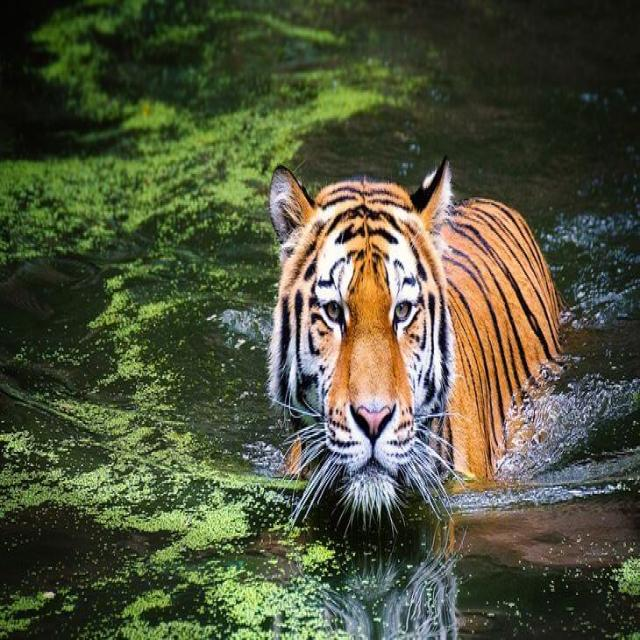Carnivorous: (266, 160, 562, 547)
